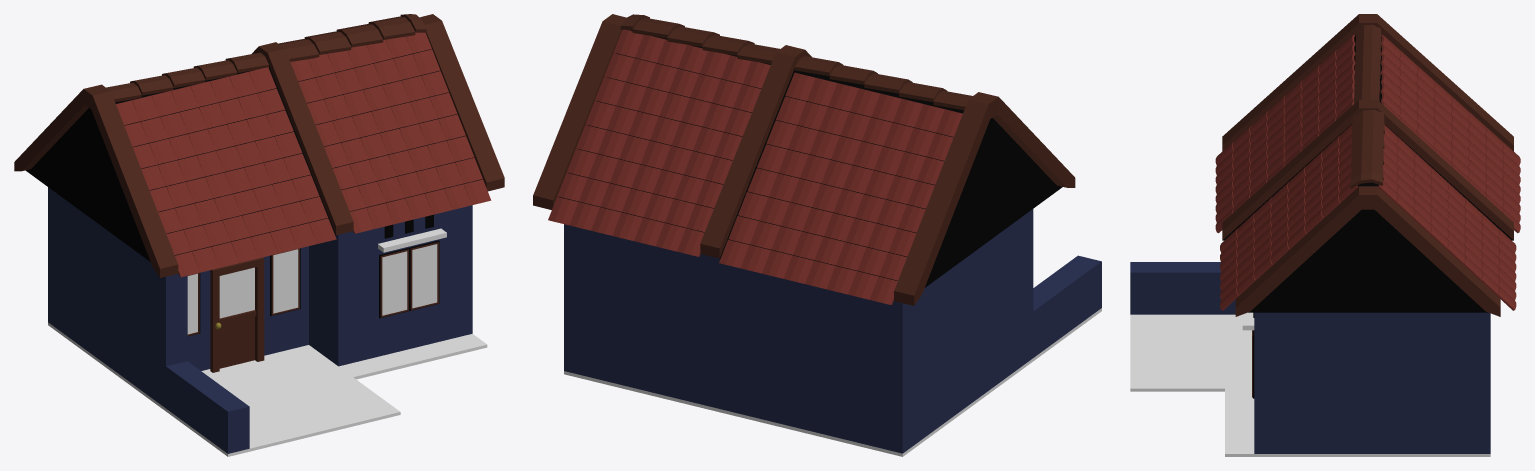
The model's file is rumah kota npc .fbx.
3 views of the same model, side by side, from view 1: azimuth 30°, elevation 25°; view 2: azimuth 150°, elevation 25°; view 3: azimuth 270°, elevation 25° (orthographic). The views are drawn at different scales.
Visible parts, largest first — view 1: Plane, Plane.007, Plane.010, Plane.020, Plane.008, Plane.009, Plane.005, Plane.011, Plane.013, Plane.012, Plane.014, Plane.002 (+5 smaller); view 2: Plane, Plane.007, Plane.010, Plane.008, Plane.009, Plane.011, Plane.013, Plane.002, Plane.014, Plane.020; view 3: Plane, Plane.007, Plane.010, Plane.008, Plane.020, Plane.013, Plane.011, Plane.009, Plane.014, Plane.002.
Part boxes in pixels (x1=…): Plane: x1=48, y1=187, x2=472, y2=453; Plane.007: x1=116, y1=67, x2=336, y2=277; Plane.010: x1=290, y1=32, x2=491, y2=233; Plane.020: x1=48, y1=322, x2=487, y2=456; Plane.008: x1=25, y1=49, x2=481, y2=261; Plane.009: x1=14, y1=84, x2=178, y2=277; Plane.005: x1=210, y1=257, x2=264, y2=372; Plane.011: x1=252, y1=42, x2=353, y2=235; Plane.013: x1=419, y1=14, x2=504, y2=191; Plane.012: x1=382, y1=244, x2=437, y2=315; Plane.014: x1=278, y1=14, x2=426, y2=61; Plane.002: x1=106, y1=52, x2=268, y2=102; Plane: x1=564, y1=209, x2=1101, y2=453; Plane.007: x1=719, y1=72, x2=962, y2=304; Plane.010: x1=548, y1=29, x2=770, y2=256; Plane.008: x1=559, y1=30, x2=1062, y2=287; Plane.009: x1=894, y1=92, x2=1075, y2=305; Plane.011: x1=700, y1=45, x2=811, y2=258; Plane.013: x1=533, y1=14, x2=631, y2=209; Plane.002: x1=795, y1=56, x2=972, y2=110; Plane.014: x1=620, y1=14, x2=779, y2=63; Plane.020: x1=564, y1=308, x2=1101, y2=456; Plane: x1=1130, y1=262, x2=1490, y2=453; Plane.007: x1=1215, y1=34, x2=1520, y2=233; Plane.010: x1=1220, y1=124, x2=1516, y2=310; Plane.008: x1=1222, y1=35, x2=1513, y2=312; Plane.020: x1=1130, y1=314, x2=1490, y2=456; Plane.013: x1=1235, y1=186, x2=1500, y2=316; Plane.011: x1=1222, y1=99, x2=1513, y2=239; Plane.009: x1=1222, y1=14, x2=1513, y2=151; Plane.014: x1=1350, y1=109, x2=1384, y2=188; Plane.002: x1=1354, y1=24, x2=1381, y2=103.
Bounding box in the file's own units: 1710 × 1315 × 1644.
